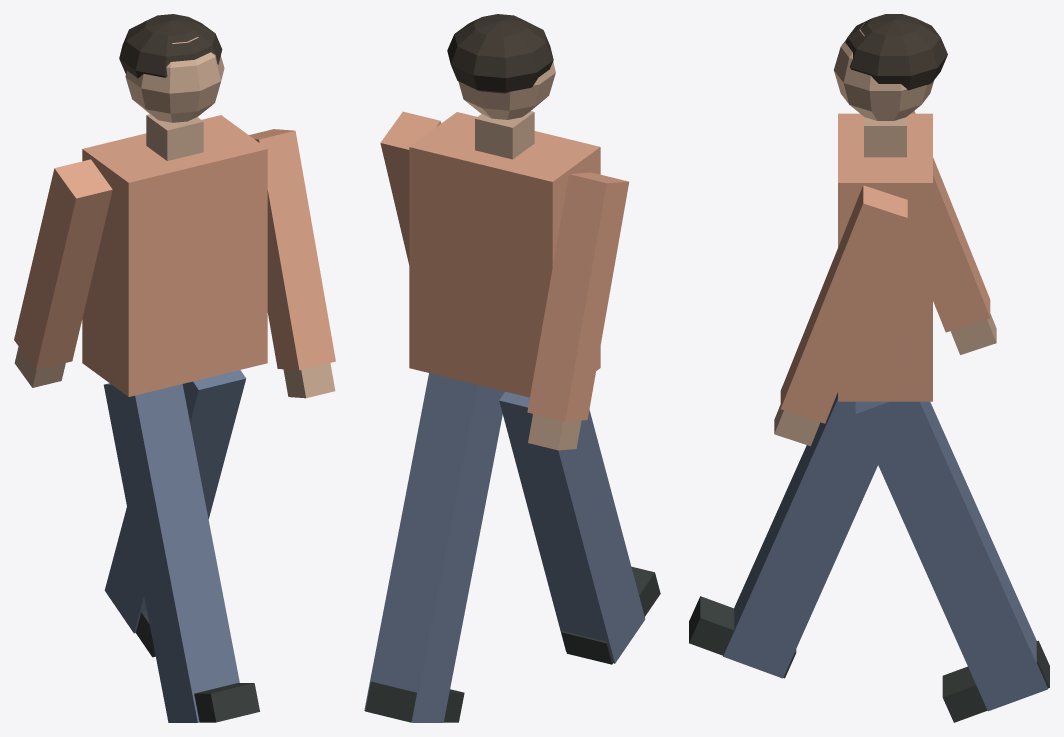
File: person-walking.glb
3 views of the same model, side by side, from view 1: azimuth 30°, elevation 25°; view 2: azimuth 150°, elevation 25°; view 3: azimuth 270°, elevation 25° (orthographic). The views are drawn at different scales.
Parts seen in each view (by area): view 1: torso, leg_r, arm_r, arm_l, head, leg_l; view 2: torso, leg_l, leg_r, arm_r, head, arm_l; view 3: leg_l, leg_r, torso, arm_l, head, arm_r.
Boxes of the visible parts, box(x1,y1,x2,y2) form: torso: box(82, 115, 267, 396); leg_r: box(103, 383, 259, 722); arm_r: box(14, 159, 112, 387); arm_l: box(249, 129, 335, 398); head: box(119, 14, 224, 160); leg_l: box(104, 370, 246, 657); torso: box(409, 112, 600, 397); leg_l: box(364, 373, 504, 722); leg_r: box(499, 391, 660, 664); arm_r: box(527, 172, 629, 450); head: box(447, 14, 555, 159); arm_l: box(380, 111, 441, 264); leg_l: box(855, 401, 1049, 722); leg_r: box(689, 392, 877, 678); torso: box(838, 113, 932, 401); arm_l: box(774, 185, 907, 446); head: box(834, 14, 947, 157); arm_r: box(911, 111, 996, 354).
Size of the model in its own units: 0.6 by 1.73 by 0.8369.
